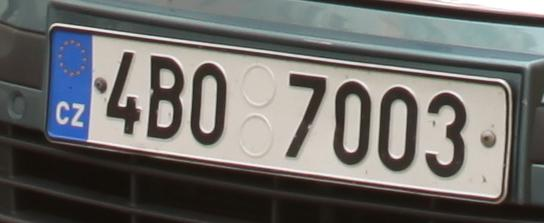0: (379, 86, 416, 171), (335, 81, 369, 165), (192, 62, 225, 145)
3: (428, 91, 463, 178)
4: (107, 48, 140, 134)
7: (287, 72, 326, 157)
B: (147, 55, 182, 138)
